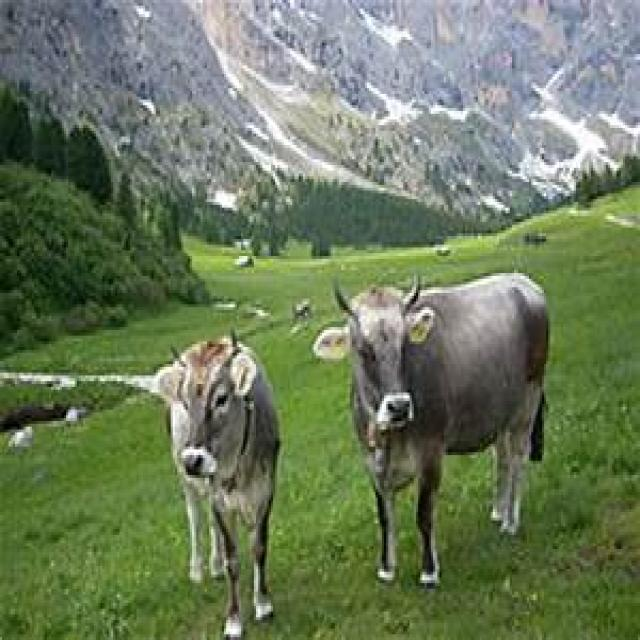cow: (314, 273, 552, 584), (152, 340, 284, 639)
